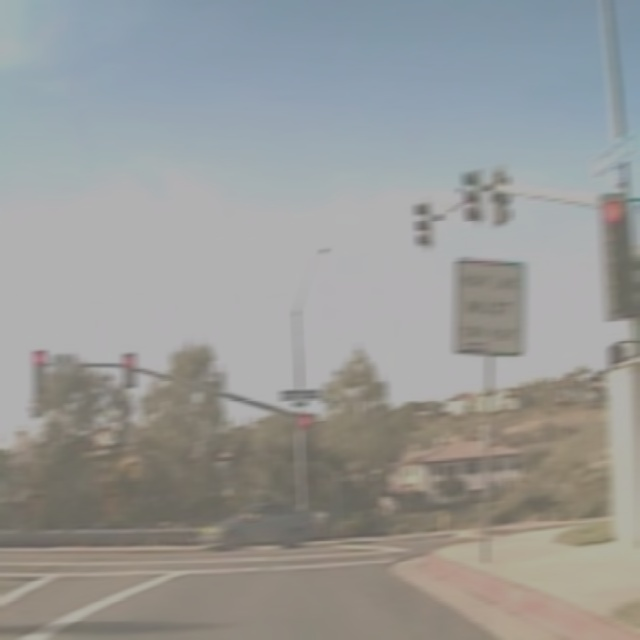rightLaneMustTurn: (456, 256, 526, 356)
